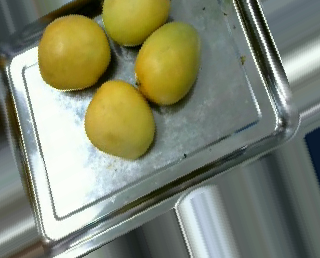Mango: (82, 73, 159, 161), (133, 15, 203, 107), (38, 10, 112, 90), (99, 0, 174, 48)
